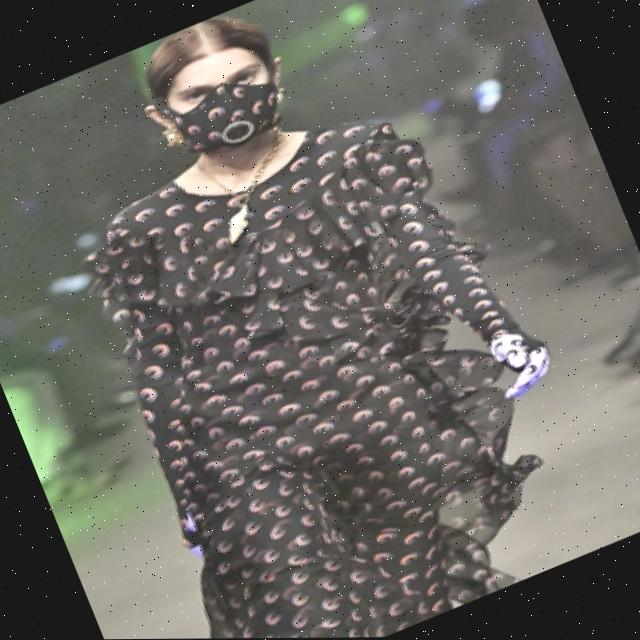Mask: (124, 38, 317, 182)
